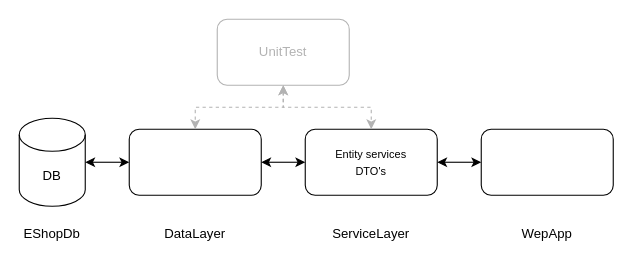
The diagram is 633 pixels wide and 270 high, and some of its shapes have lost their labels. The centre of each missing label's shape, as x and y in pixels:
"EShopContext Models Migrations" belongs at point (194, 161).
"Session state Pages/Views/Components" belongs at point (546, 161).
